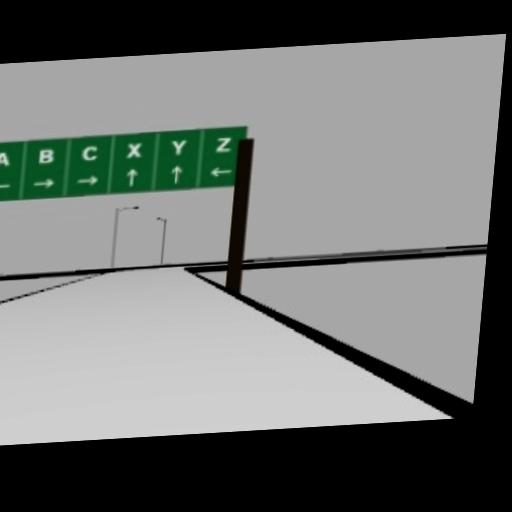A: (0, 151, 11, 168)
B: (37, 148, 54, 163)
C: (80, 143, 98, 160)
Left: (208, 165, 231, 177), (0, 180, 11, 192)
Right: (73, 173, 100, 187), (30, 178, 57, 189)
Straight: (125, 167, 138, 187), (170, 165, 181, 182)
X: (125, 141, 143, 158)
Y: (169, 138, 187, 155)
Z: (214, 135, 232, 152)
